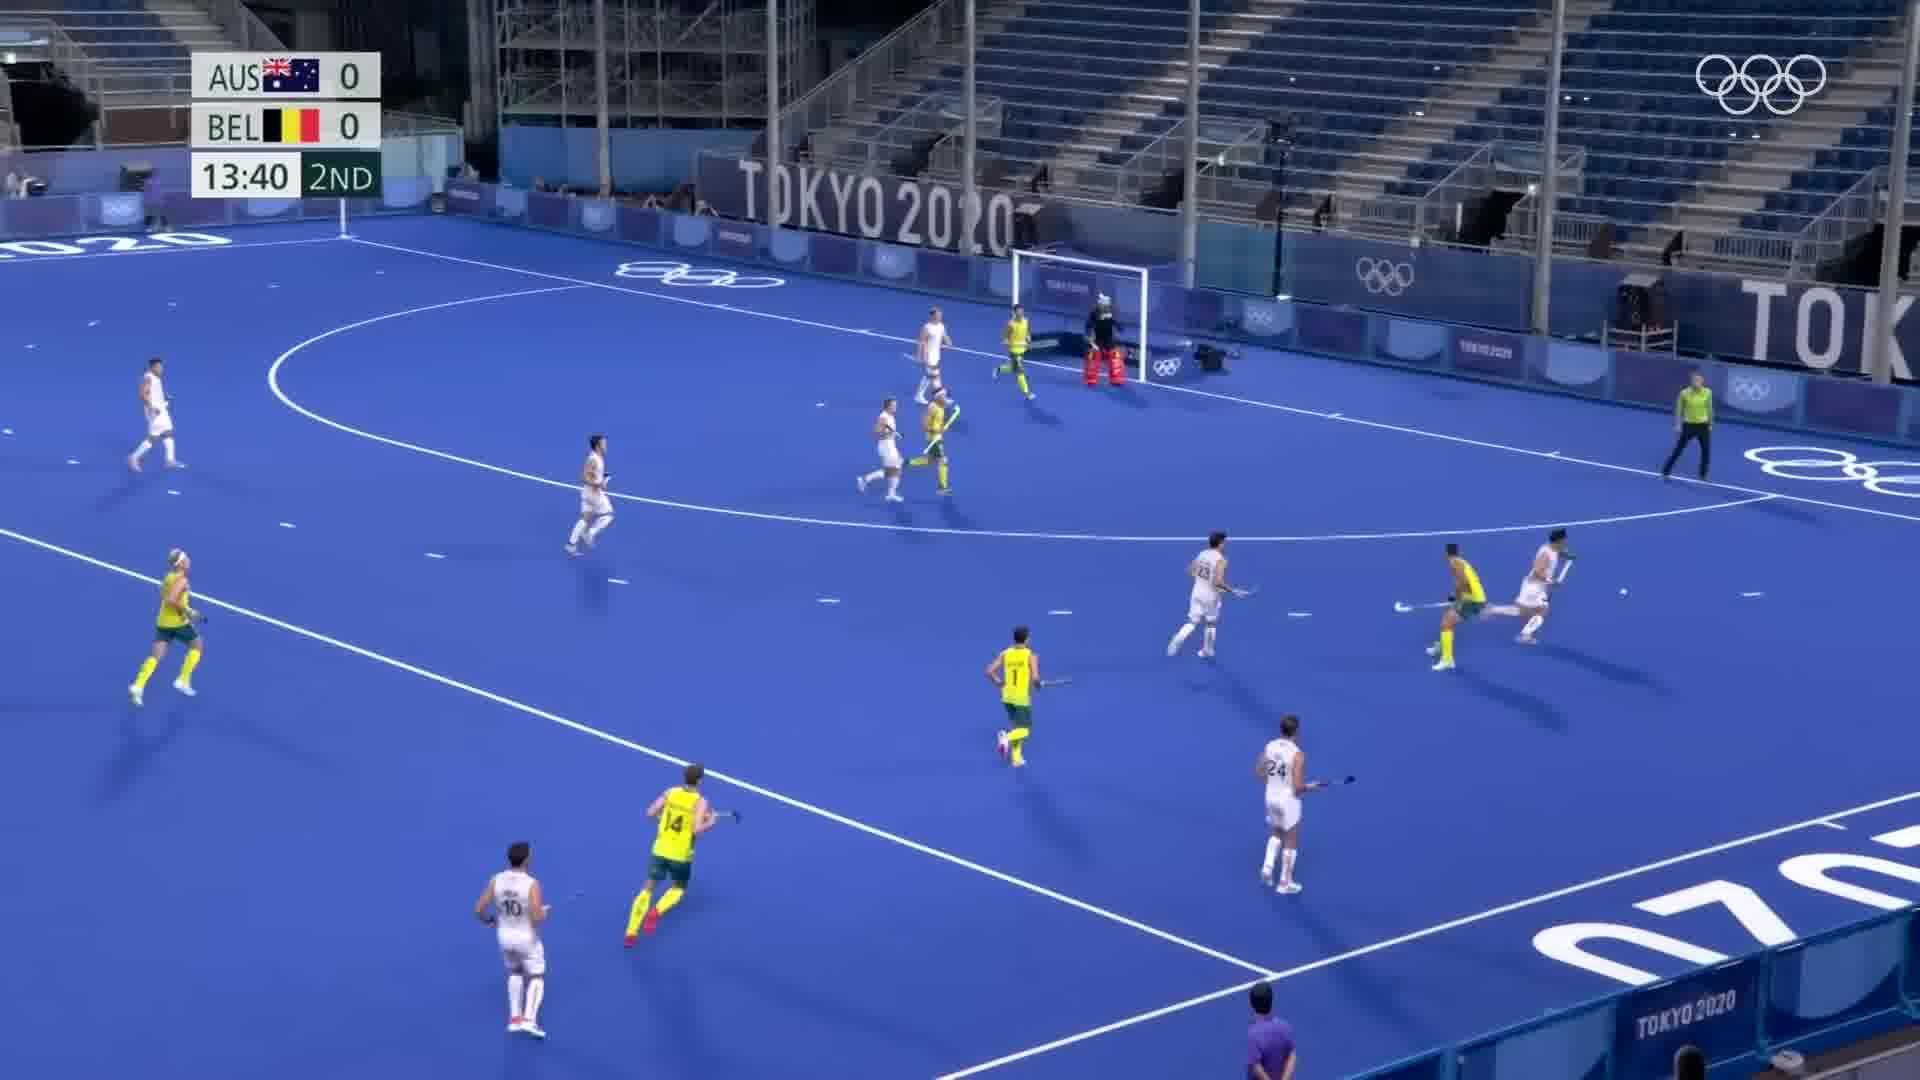ball: (1614, 581, 1634, 604)
